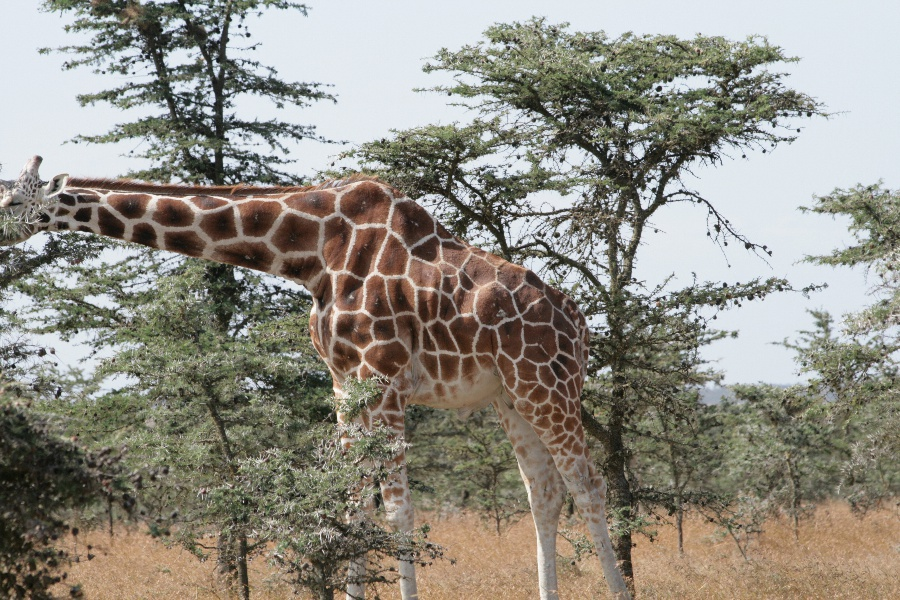giraffe: (0, 148, 647, 593)
